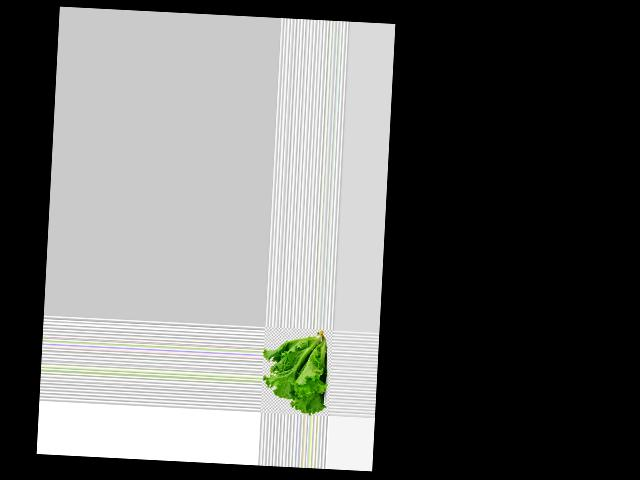lettuce: (260, 326, 327, 414)
